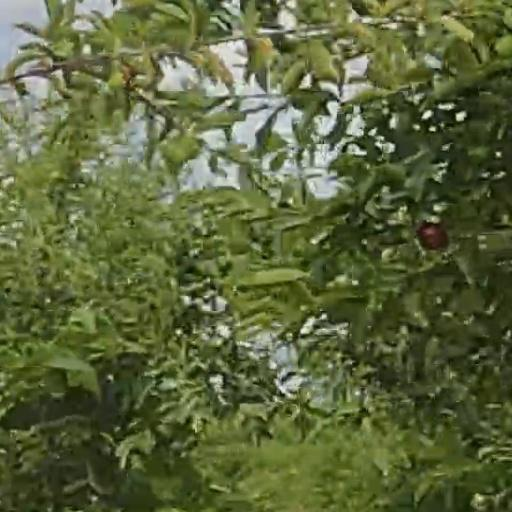acerola: (420, 223, 449, 248)
